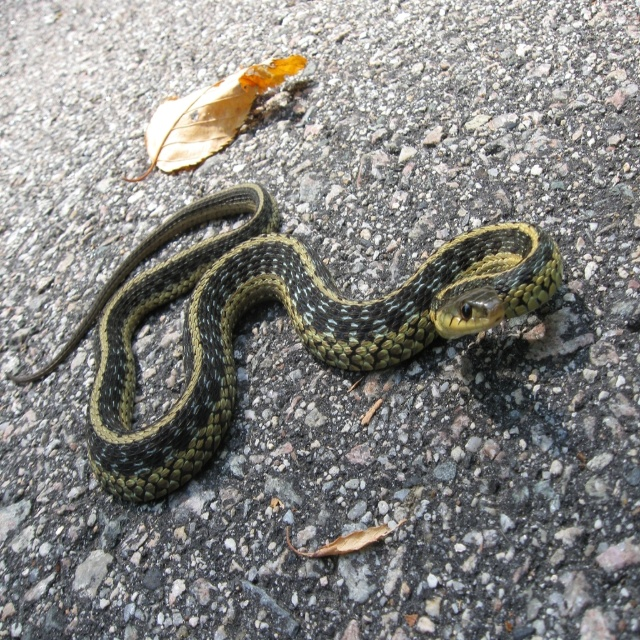Snake: (4, 182, 562, 502)
